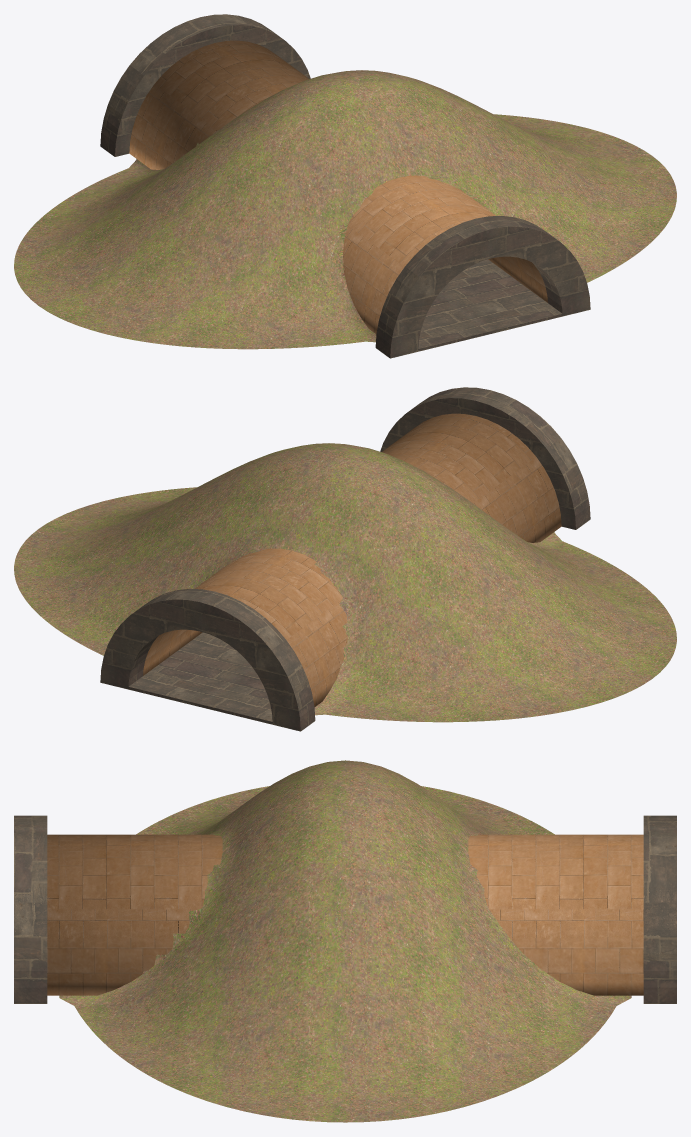
File: 01 Vault Mount.obj
3 views of the same model, one above another, from view 1: azimuth 30°, elevation 25°; view 2: azimuth 150°, elevation 25°; view 3: azimuth 270°, elevation 25° (orthographic). The views are drawn at different scales.
Parts seen in each view (by area): view 1: SiteA_VaultMound_turf_mound, SiteA_VaultMound_vault_tunnel, SiteA_VaultMound_portal_arch_south, SiteA_VaultMound_portal_arch_north, SiteA_VaultMound_tunnel_floor; view 2: SiteA_VaultMound_turf_mound, SiteA_VaultMound_vault_tunnel, SiteA_VaultMound_portal_arch_north, SiteA_VaultMound_portal_arch_south, SiteA_VaultMound_tunnel_floor; view 3: SiteA_VaultMound_turf_mound, SiteA_VaultMound_vault_tunnel, SiteA_VaultMound_portal_arch_north, SiteA_VaultMound_portal_arch_south.
Part boxes in pixels (<box>): SiteA_VaultMound_turf_mound: <box>14,70,676,349</box>; SiteA_VaultMound_vault_tunnel: <box>129,40,547,333</box>; SiteA_VaultMound_portal_arch_south: <box>375,216,590,358</box>; SiteA_VaultMound_portal_arch_north: <box>100,14,310,156</box>; SiteA_VaultMound_tunnel_floor: <box>418,259,562,351</box>; SiteA_VaultMound_turf_mound: <box>14,443,676,722</box>; SiteA_VaultMound_vault_tunnel: <box>143,413,561,706</box>; SiteA_VaultMound_portal_arch_north: <box>100,589,315,731</box>; SiteA_VaultMound_portal_arch_south: <box>380,387,590,529</box>; SiteA_VaultMound_tunnel_floor: <box>128,632,272,724</box>; SiteA_VaultMound_turf_mound: <box>59,760,631,1122</box>; SiteA_VaultMound_vault_tunnel: <box>47,834,643,995</box>; SiteA_VaultMound_portal_arch_north: <box>643,815,676,1003</box>; SiteA_VaultMound_portal_arch_south: <box>14,815,47,1003</box>.
Bounding box in the file's own units: 6.8 × 1.6 × 5.56.
Materials: 3 (3 with a texture image).
